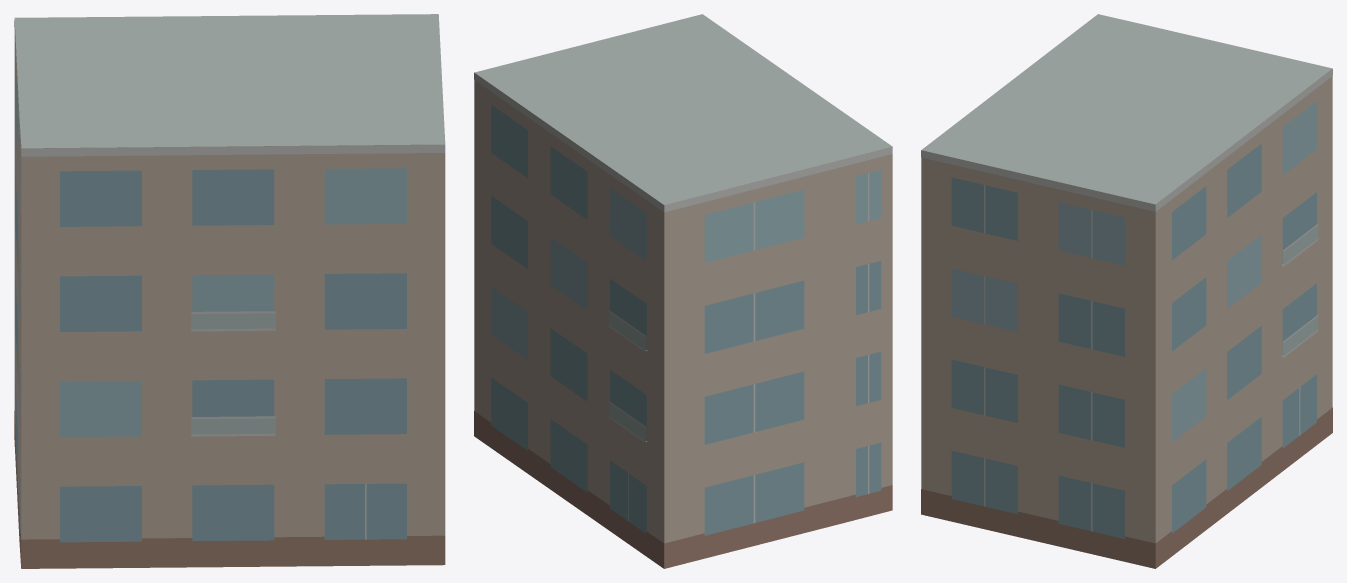
Rendered from residential-cd2b9bbc-1d16-4674-9179-b6c19efee1fa.glb.
3 views of the same model, side by side, from view 1: azimuth 30°, elevation 25°; view 2: azimuth 150°, elevation 25°; view 3: azimuth 270°, elevation 25° (orthographic). The views are drawn at different scales.
Visible parts, largest first — view 1: residential-cd2b9bbc-1d16-4674-9179-b6c19efee1fa.tmp; view 2: residential-cd2b9bbc-1d16-4674-9179-b6c19efee1fa.tmp; view 3: residential-cd2b9bbc-1d16-4674-9179-b6c19efee1fa.tmp.
Part boxes in pixels (x1=…): residential-cd2b9bbc-1d16-4674-9179-b6c19efee1fa.tmp: x1=14, y1=14, x2=445, y2=568; residential-cd2b9bbc-1d16-4674-9179-b6c19efee1fa.tmp: x1=474, y1=14, x2=892, y2=568; residential-cd2b9bbc-1d16-4674-9179-b6c19efee1fa.tmp: x1=921, y1=14, x2=1332, y2=568.
Bounding box in the file's own units: 13.69 × 12.2 × 12.5.
